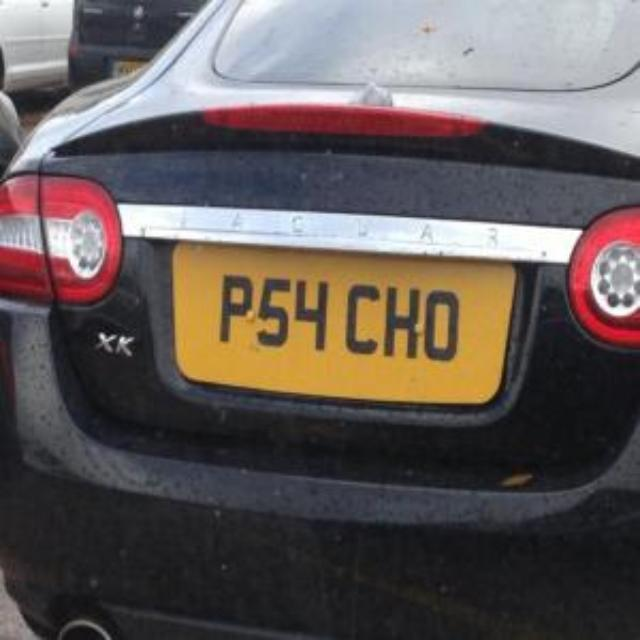License Plate: (173, 242, 517, 404)
